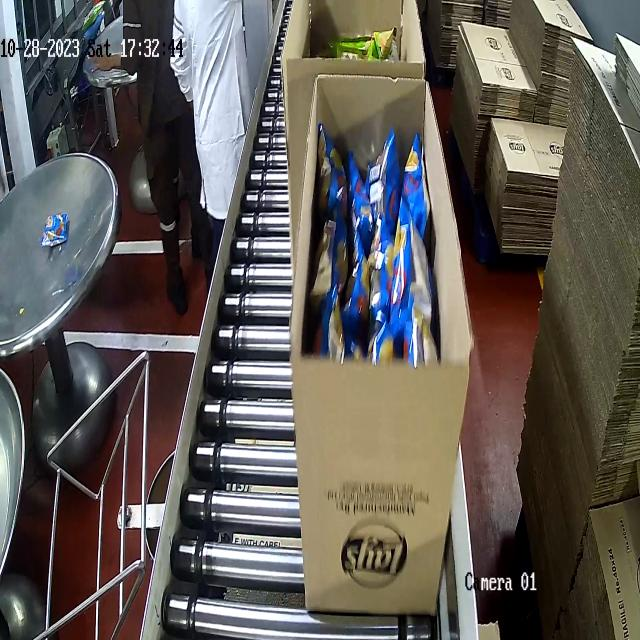PAPRIKA: (316, 121, 445, 363)
